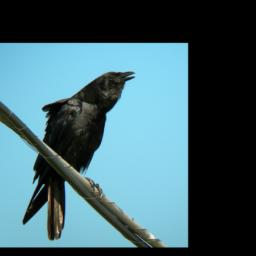Crow: (22, 69, 136, 243)
